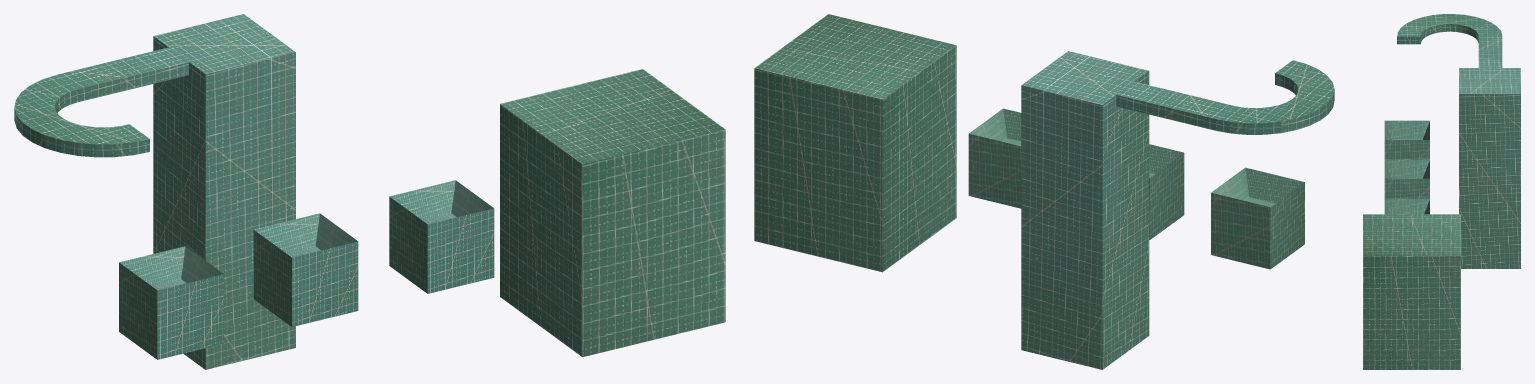
The model's file is level_1.gltf.
3 renders of one model, left to right at view 1: azimuth 30°, elevation 25°; view 2: azimuth 150°, elevation 25°; view 3: azimuth 270°, elevation 25°, orthographic. The views are drawn at different scales.
Visible parts, largest first — view 1: Cube.004, Cube, Cube.003, Cube.002, Cube.001; view 2: Cube, Cube.004, Cube.001, Cube.003, Cube.002; view 3: Cube.004, Cube, Cube.002, Cube.001, Cube.003.
Part boxes in pixels (x1,y1,x2,y2): Cube.004: [500, 69, 725, 357]; Cube: [14, 14, 295, 369]; Cube.003: [389, 180, 494, 293]; Cube.002: [253, 213, 358, 326]; Cube.001: [119, 246, 223, 359]; Cube: [1021, 51, 1334, 369]; Cube.004: [754, 14, 956, 272]; Cube.001: [1211, 167, 1304, 269]; Cube.003: [968, 108, 1021, 208]; Cube.002: [1149, 144, 1184, 239]; Cube.004: [1363, 214, 1460, 369]; Cube: [1397, 14, 1520, 268]; Cube.002: [1384, 159, 1429, 198]; Cube.001: [1384, 120, 1429, 159]; Cube.003: [1384, 198, 1429, 214].
Bounding box in the file's own units: 27.68 × 12.51 × 10.2.
Materials: 3 (3 with a texture image).
